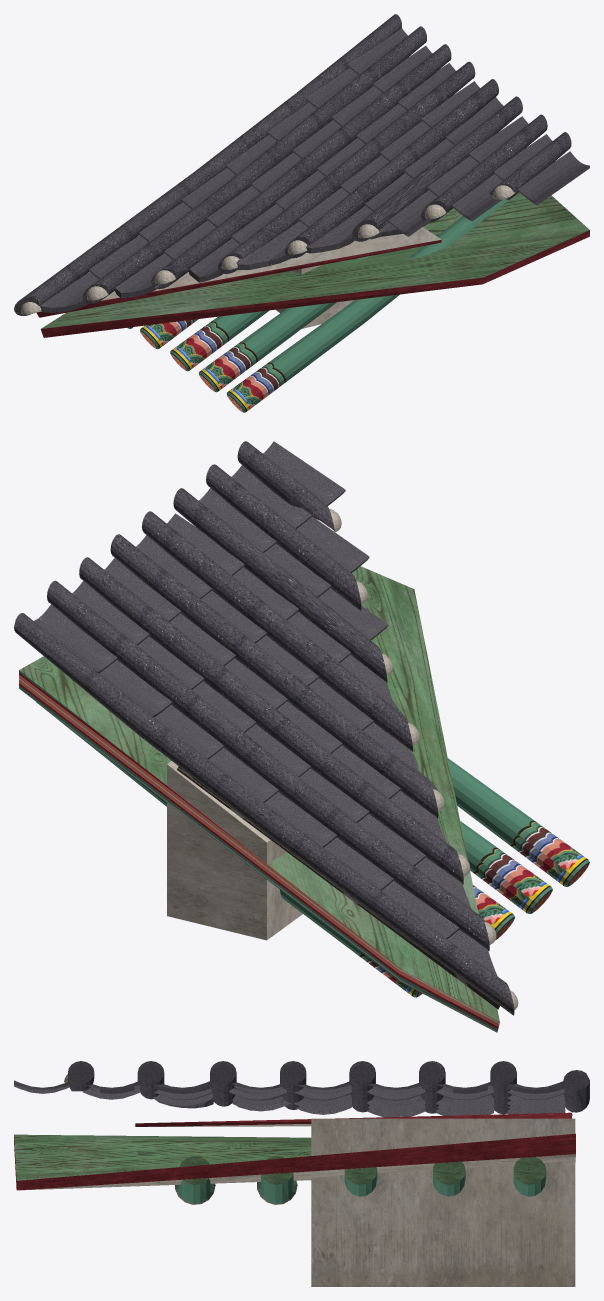
File: SM_R_RoofCornerCut_6.fbx
3 renders of one model, top to bottom at view 1: azimuth 30°, elevation 25°; view 2: azimuth 150°, elevation 25°; view 3: azimuth 270°, elevation 25°, orthographic. The views are drawn at different scales.
Parts seen in each view (by area): view 1: SM_R_RoofCornerCut_6; view 2: SM_R_RoofCornerCut_6; view 3: SM_R_RoofCornerCut_6.
Part boxes in pixels (x1,y1,x2,y2): SM_R_RoofCornerCut_6: (14, 14, 589, 412); SM_R_RoofCornerCut_6: (14, 441, 589, 1032); SM_R_RoofCornerCut_6: (14, 1061, 589, 1286).
Size of the model in its own units: 519 by 466 by 312.
Materials: 4 (4 with a texture image).
